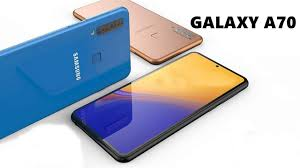samsung: (1, 8, 130, 143)
